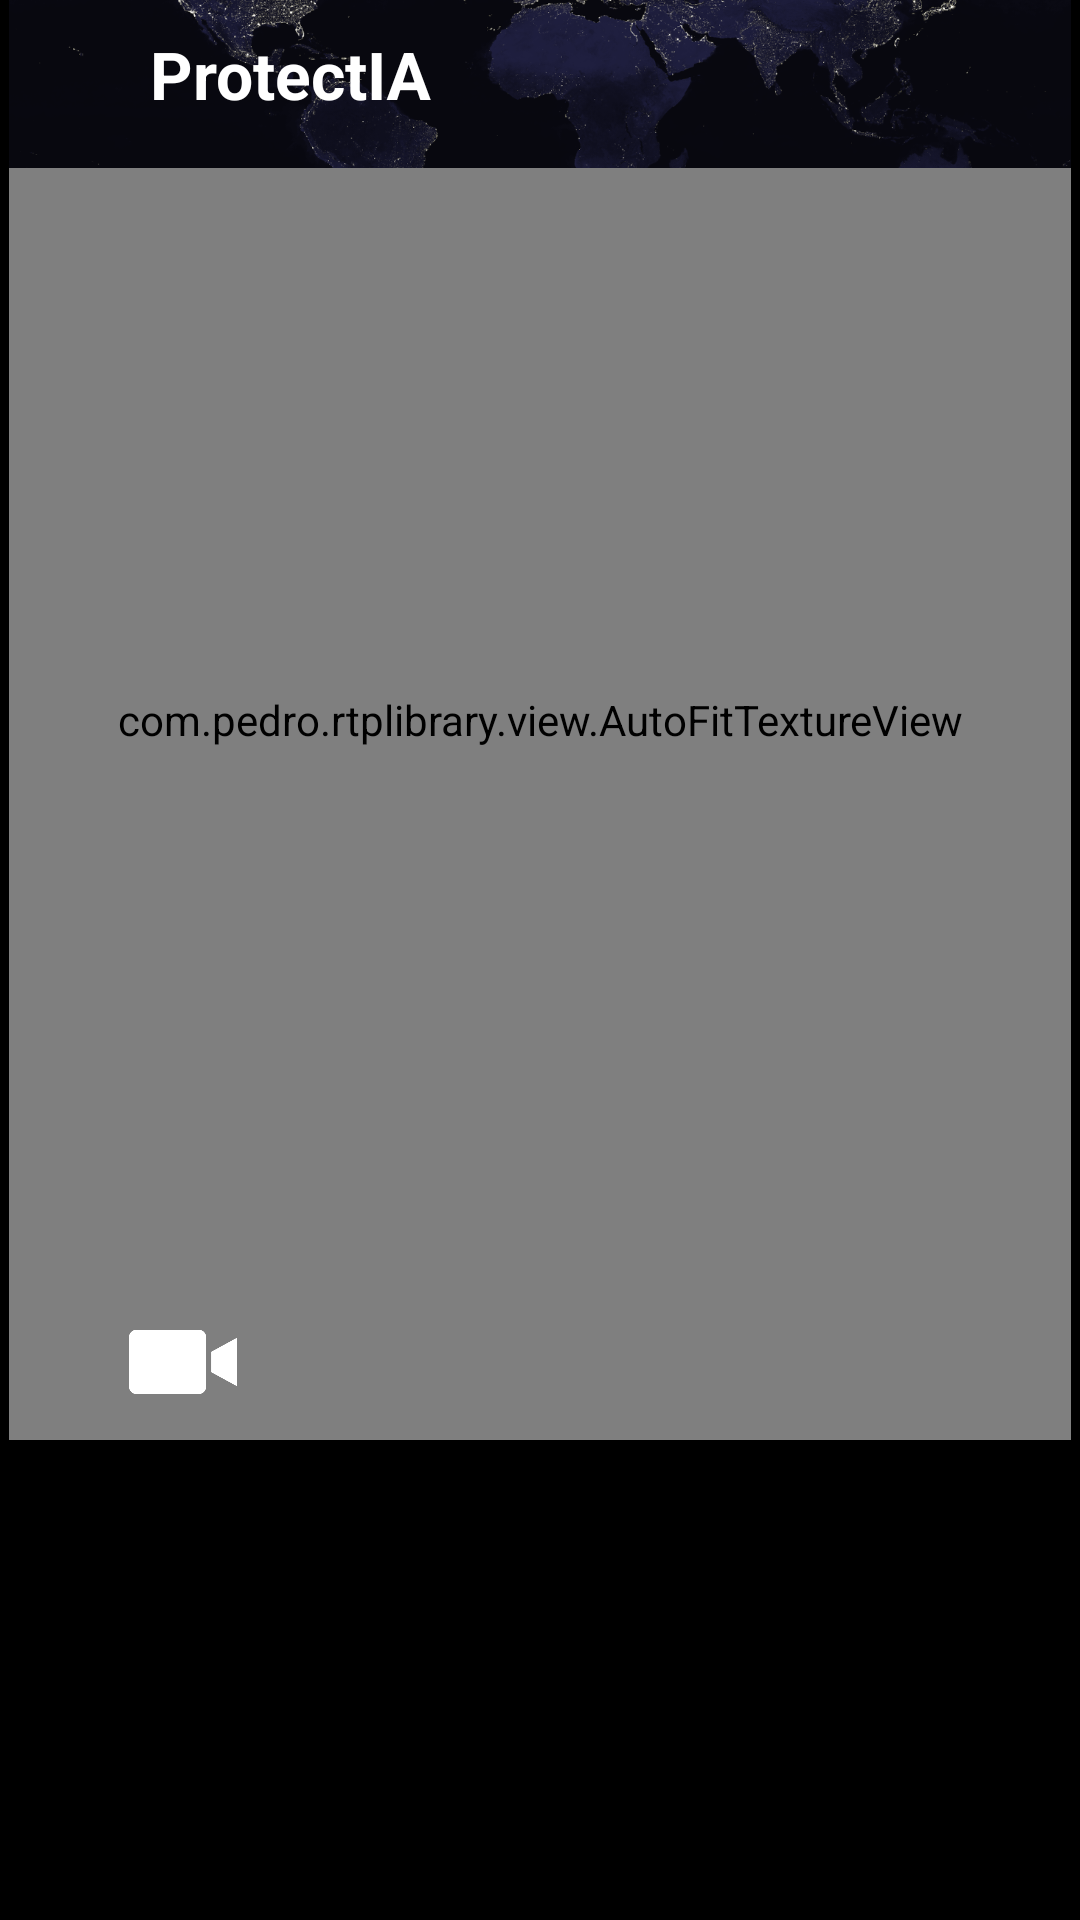

Icons on this 1080x1920 Android screen, each with the point to tap as (x=x, y=y):
video camera: (x=183, y=1362)
